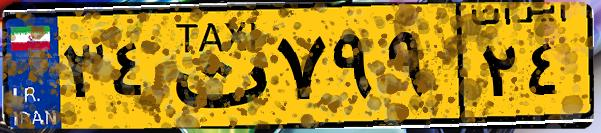2: (475, 38, 525, 113)
3: (57, 26, 110, 100)
4: (525, 38, 570, 115), (110, 28, 158, 98)
7: (270, 28, 330, 110)
9: (385, 28, 445, 110), (330, 28, 385, 110)
ت: (158, 12, 270, 120)
